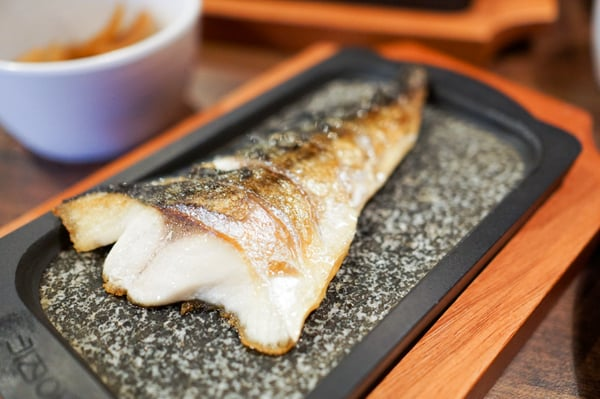pizza: (0, 1, 204, 166)
sushi: (0, 1, 204, 166)
